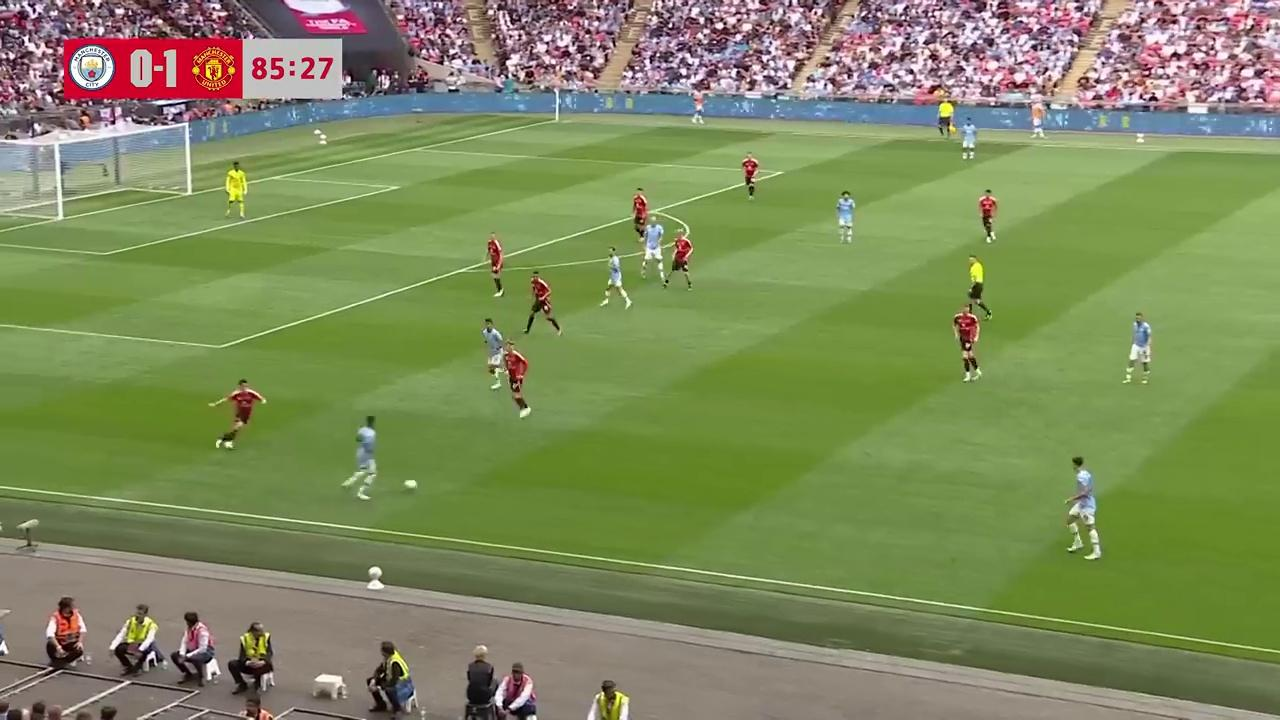ball: (401, 476, 419, 492)
player: (210, 377, 266, 450), (1064, 455, 1102, 559), (340, 415, 378, 499), (49, 598, 90, 668), (524, 271, 562, 336), (952, 300, 981, 382), (1123, 311, 1152, 385), (599, 246, 633, 309), (504, 337, 530, 418), (638, 220, 668, 282), (481, 317, 508, 383), (665, 230, 694, 289), (224, 160, 248, 219), (485, 231, 504, 296), (977, 188, 998, 242), (835, 190, 855, 243), (740, 153, 761, 200), (631, 187, 649, 241), (960, 121, 977, 160)
referee: (965, 254, 991, 319), (937, 99, 956, 139)
